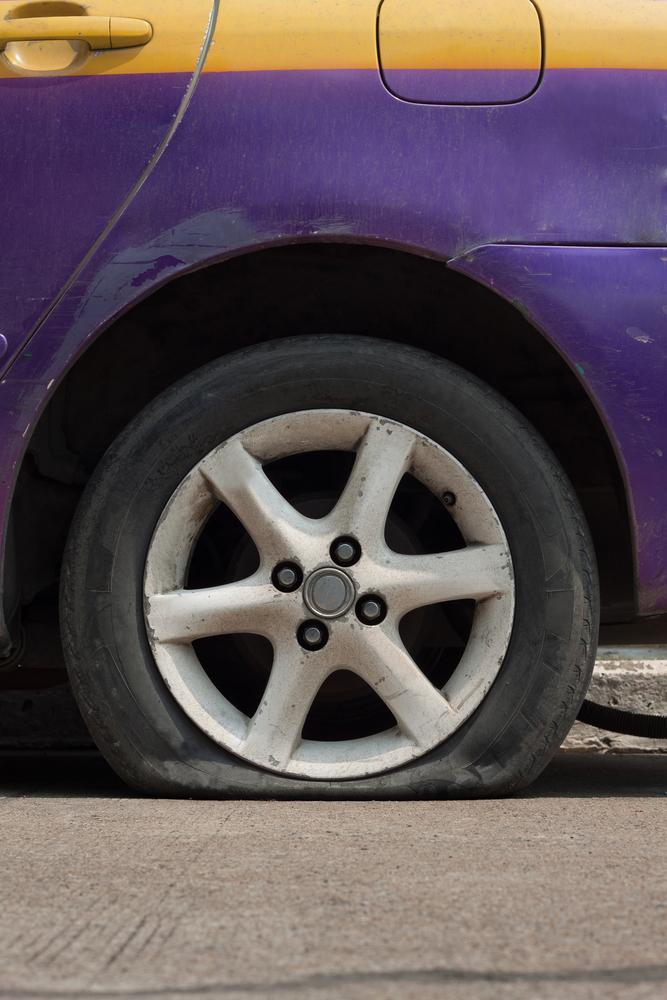tire flat: (59, 310, 596, 799)
